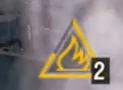2fire: (34, 42, 109, 87)
